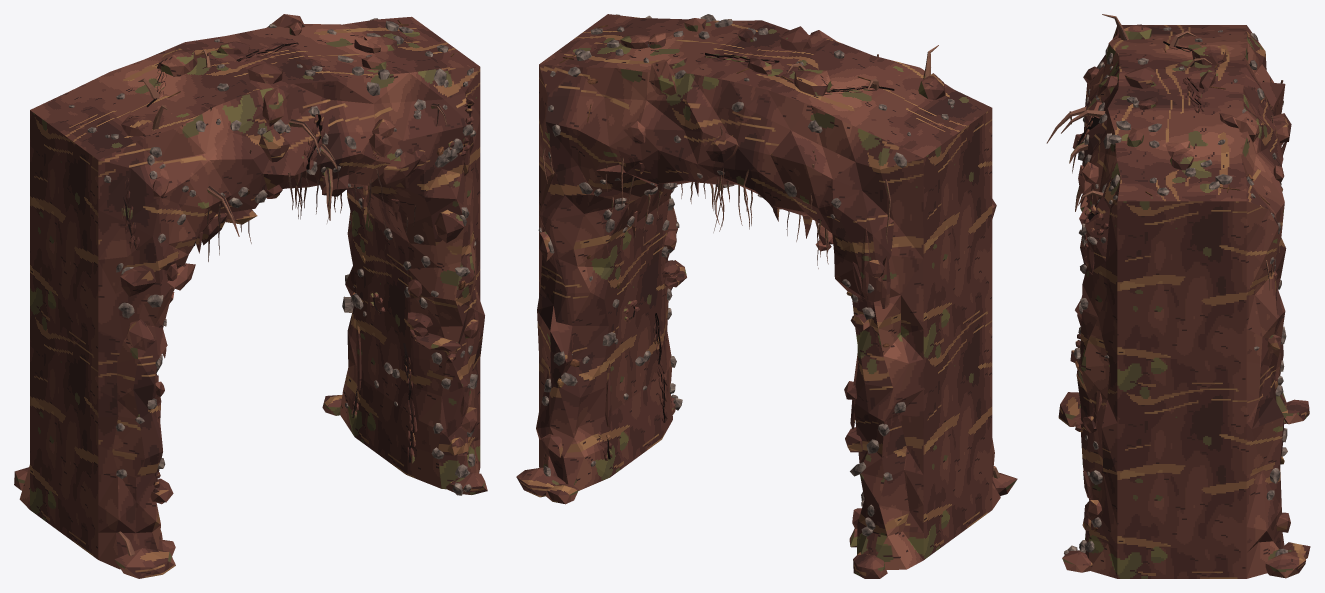
Rendered from SM_AN04_TunnelCollar.fbx.
The picture shows the model from 3 angles, left to right: view 1: azimuth 30°, elevation 25°; view 2: azimuth 150°, elevation 25°; view 3: azimuth 270°, elevation 25°; orthographic projection. The views are drawn at different scales.
Visible parts, largest first — view 1: AN04a_Earth, AN04a_Props, AN04a_Root; view 2: AN04a_Earth, AN04a_Props, AN04a_Root; view 3: AN04a_Earth, AN04a_Props, AN04a_Root.
Part boxes in pixels (box(x1,y1,x2,y2)): AN04a_Earth: box(14, 14, 487, 578); AN04a_Props: box(69, 18, 477, 495); AN04a_Root: box(117, 50, 446, 556); AN04a_Earth: box(516, 14, 1017, 578); AN04a_Props: box(538, 14, 954, 536); AN04a_Root: box(542, 45, 999, 478); AN04a_Earth: box(1058, 24, 1310, 578); AN04a_Props: box(1064, 27, 1287, 556); AN04a_Root: box(1046, 14, 1283, 394).
Bounding box in the file's own units: 4 × 4.42 × 2.53.
